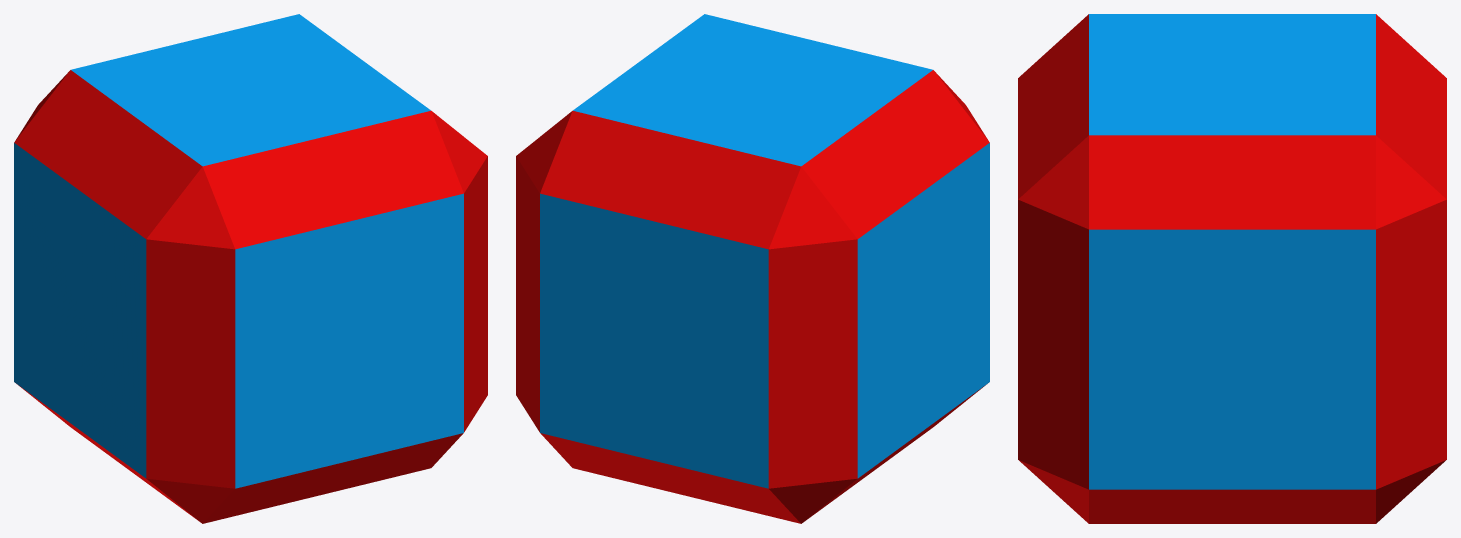
Rendered from BeveledCube.fbx.
3 renders of one model, left to right at view 1: azimuth 30°, elevation 25°; view 2: azimuth 150°, elevation 25°; view 3: azimuth 270°, elevation 25°, orthographic. The views are drawn at different scales.
Parts seen in each view (by area): view 1: Cube; view 2: Cube; view 3: Cube.
Part boxes in pixels (x1,y1,x2,y2): Cube: [14, 14, 487, 523]; Cube: [516, 14, 989, 523]; Cube: [1018, 14, 1446, 523].
Size of the model in its own units: 200 by 200 by 200.
